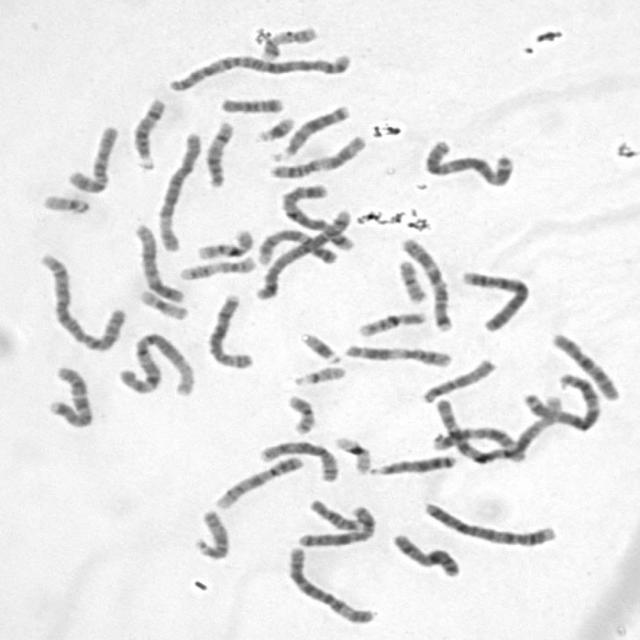A1: (431, 390, 564, 464), (115, 329, 200, 398)
A2: (35, 248, 128, 352), (163, 48, 355, 92)
A3: (520, 367, 602, 433), (420, 136, 518, 188)
B4: (419, 497, 560, 549), (456, 266, 532, 333)
B5: (251, 204, 356, 301), (278, 181, 356, 251)
C10: (548, 328, 622, 402), (63, 122, 120, 193)
C11: (265, 131, 369, 180), (341, 339, 455, 368)
C12: (129, 219, 187, 304), (432, 422, 528, 463)
C6: (282, 542, 379, 626), (154, 128, 205, 253)
C7: (396, 232, 456, 332), (43, 362, 95, 430)
C8: (203, 289, 255, 371), (255, 436, 341, 484)
C9: (210, 451, 305, 511), (254, 226, 341, 267)
D13: (267, 99, 352, 162), (365, 451, 458, 477)
D14: (128, 93, 168, 172), (202, 118, 236, 188)
D15: (418, 355, 499, 404), (190, 506, 232, 562)
E16: (354, 307, 429, 338), (192, 225, 256, 261)
E17: (175, 252, 259, 282), (256, 22, 319, 62)
E18: (306, 496, 362, 532), (216, 93, 286, 115)
F19: (135, 285, 191, 321), (330, 432, 374, 475)
F20: (393, 255, 429, 305), (284, 392, 318, 436)
G21: (296, 328, 345, 365), (251, 112, 297, 144)
G22: (290, 362, 348, 387), (38, 190, 92, 215)
X: (292, 501, 377, 549), (389, 529, 464, 578)
